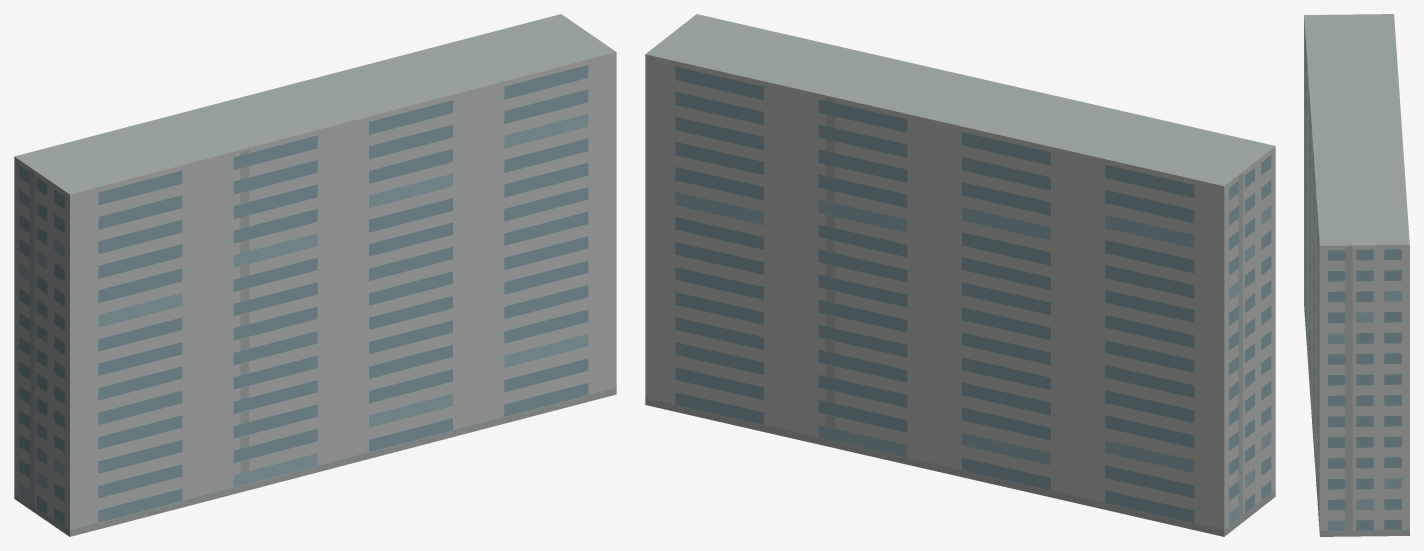
Rendered from residential-1d90ab7f-34d8-4dcf-84c5-6f9823d4c2a8.glb.
3 renders of one model, left to right at view 1: azimuth 30°, elevation 25°; view 2: azimuth 150°, elevation 25°; view 3: azimuth 270°, elevation 25°, orthographic. The views are drawn at different scales.
Parts seen in each view (by area): view 1: residential-1d90ab7f-34d8-4dcf-84c5-6f9823d4c2a8.tmp; view 2: residential-1d90ab7f-34d8-4dcf-84c5-6f9823d4c2a8.tmp; view 3: residential-1d90ab7f-34d8-4dcf-84c5-6f9823d4c2a8.tmp.
Boxes of the visible parts, box(x1,y1,x2,y2) form: residential-1d90ab7f-34d8-4dcf-84c5-6f9823d4c2a8.tmp: box(14, 14, 616, 536); residential-1d90ab7f-34d8-4dcf-84c5-6f9823d4c2a8.tmp: box(645, 14, 1275, 536); residential-1d90ab7f-34d8-4dcf-84c5-6f9823d4c2a8.tmp: box(1304, 14, 1409, 536).
Bounding box in the file's own units: 72.93 × 42.7 × 14.06.
